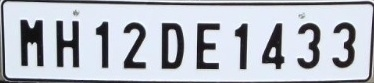character: (18, 16, 46, 68), (55, 18, 81, 69), (120, 20, 147, 69), (330, 20, 357, 69), (194, 20, 220, 70), (296, 21, 322, 71), (159, 20, 184, 71), (260, 21, 286, 68), (94, 20, 110, 70), (234, 22, 249, 71)
